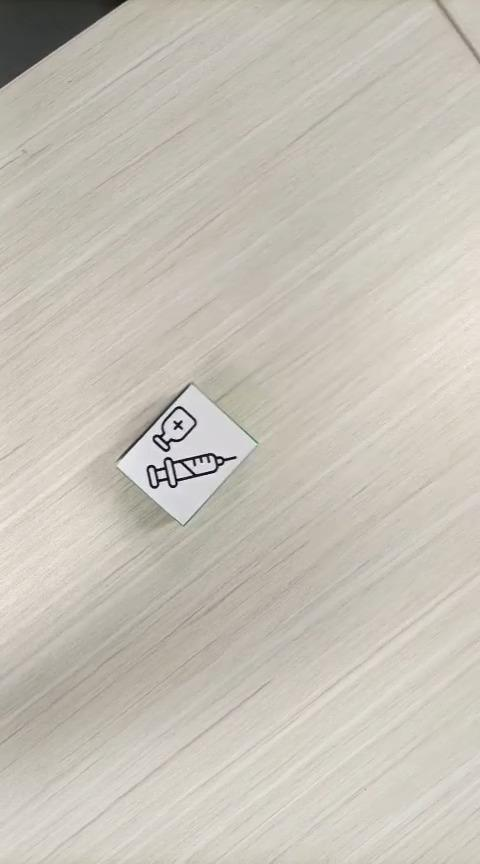antiseptic cream: (113, 380, 258, 527)
